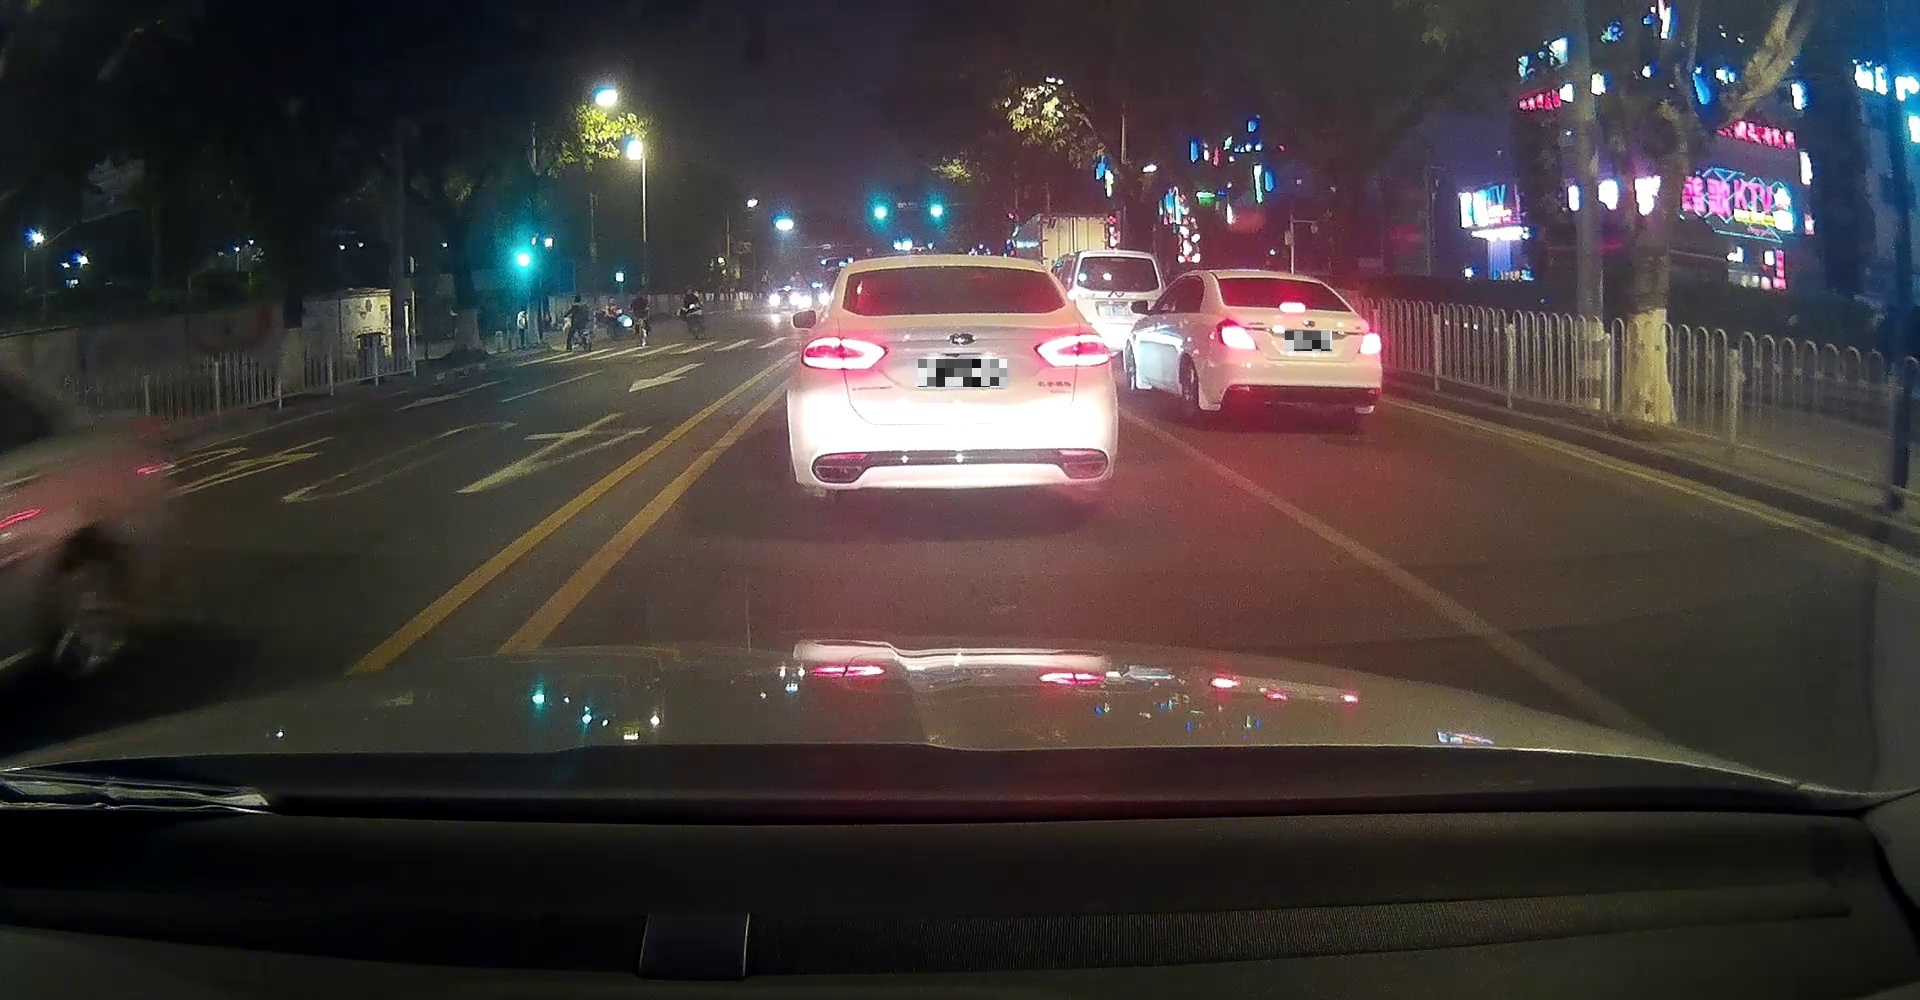L_light: (800, 336, 888, 371), (1215, 319, 1258, 350)
R_light: (1032, 332, 1112, 367), (1357, 332, 1382, 355)
T_light: (1279, 301, 1305, 313), (935, 261, 971, 269)
night-brake: (1211, 269, 1382, 423)
night-no: (797, 254, 1112, 515)
plate_1: (918, 359, 1007, 387)
plate_2: (1285, 331, 1332, 352)
